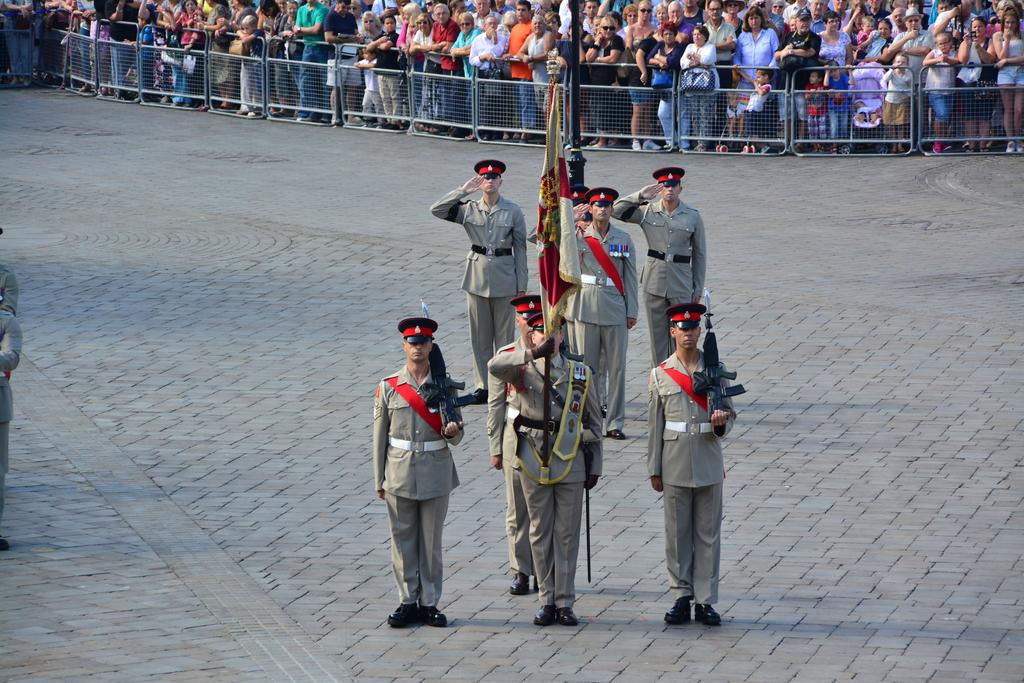Rifle: (417, 296, 474, 438), (694, 294, 744, 412)
